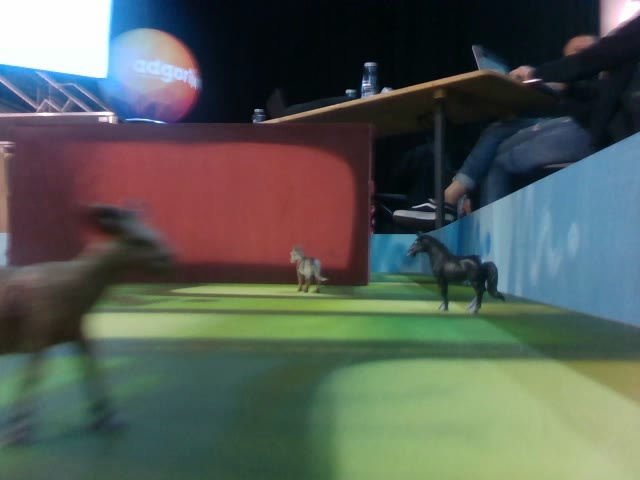toy: (408, 232, 504, 313), (289, 247, 329, 293)
